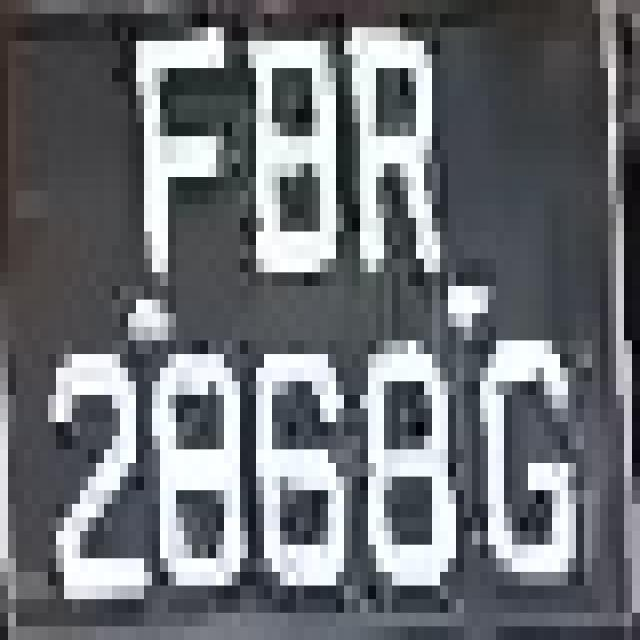2: (0, 6, 2, 14)
6: (224, 327, 352, 613)
8: (360, 286, 456, 599), (160, 300, 256, 599)
B: (224, 0, 336, 354)
F: (112, 0, 240, 313)
G: (472, 286, 584, 572)
R: (328, 41, 456, 354)
